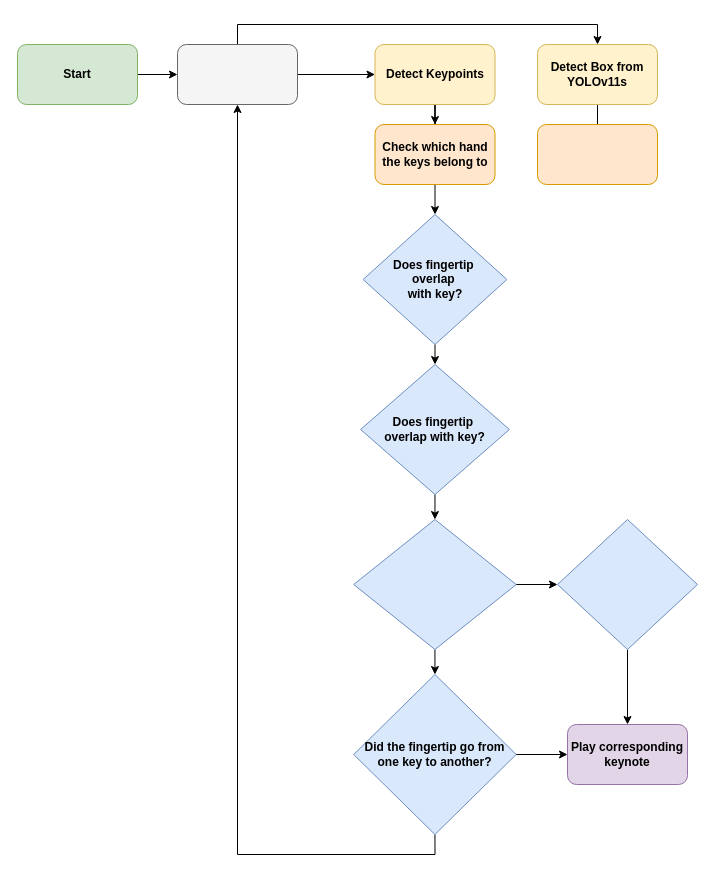
The diagram is 715 pixels wide and 880 high, and some of its shapes have lost their labels. The shapes that lost their labels are listed below. From the top down, each one's centre as x and y in pixels, then its label:
At pixel 237 74: "Read frame".
At pixel 597 154: "Make piano box with 10 keys".
At pixel 434 584: "Is there a motion?".
At pixel 627 584: "Is it downward?".
